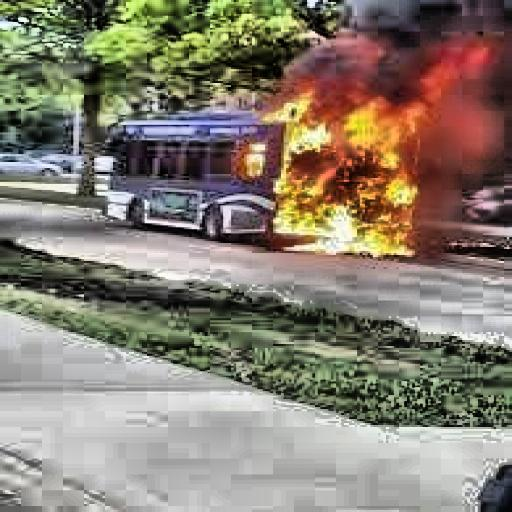fire: (250, 73, 446, 257)
